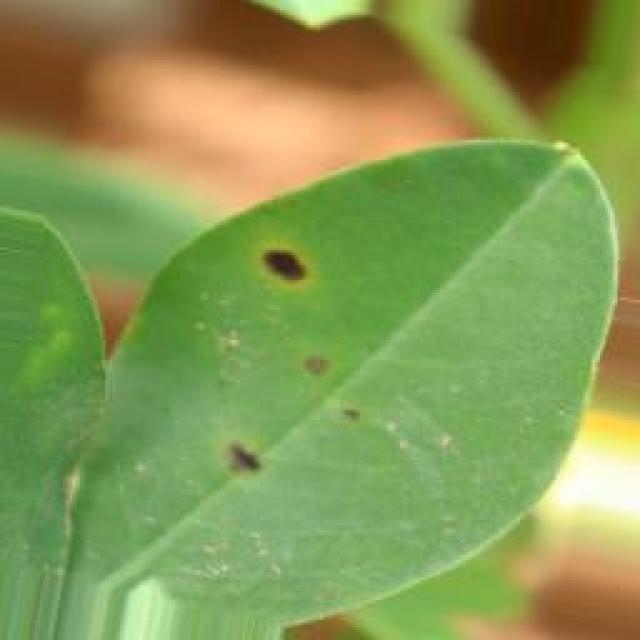Sigatoka: (239, 220, 326, 322), (297, 334, 367, 456), (216, 416, 276, 504)
